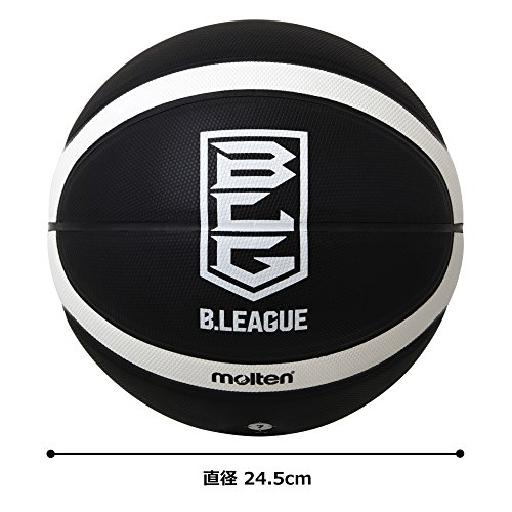ball: (48, 19, 464, 436)
